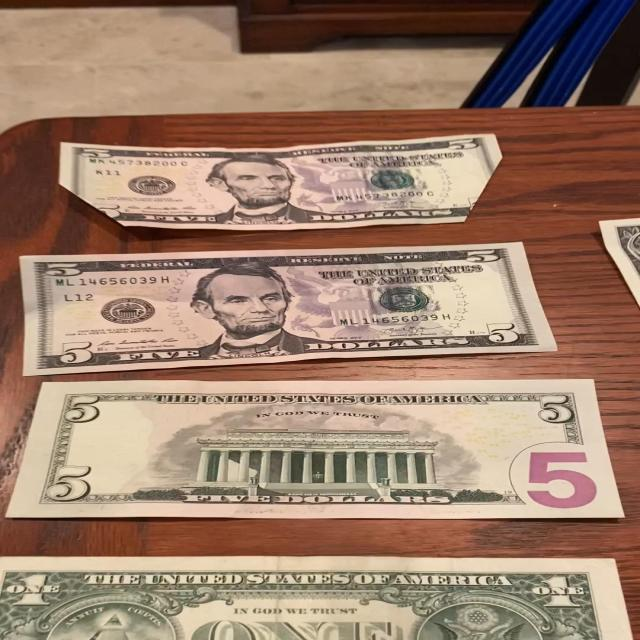1-Back: (0, 551, 640, 640)
5-Back: (8, 374, 632, 524)
5-Front: (8, 238, 562, 381), (52, 128, 516, 233)
